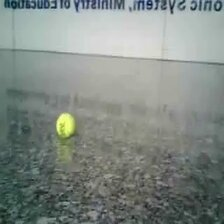tennis: (55, 113, 76, 140)
